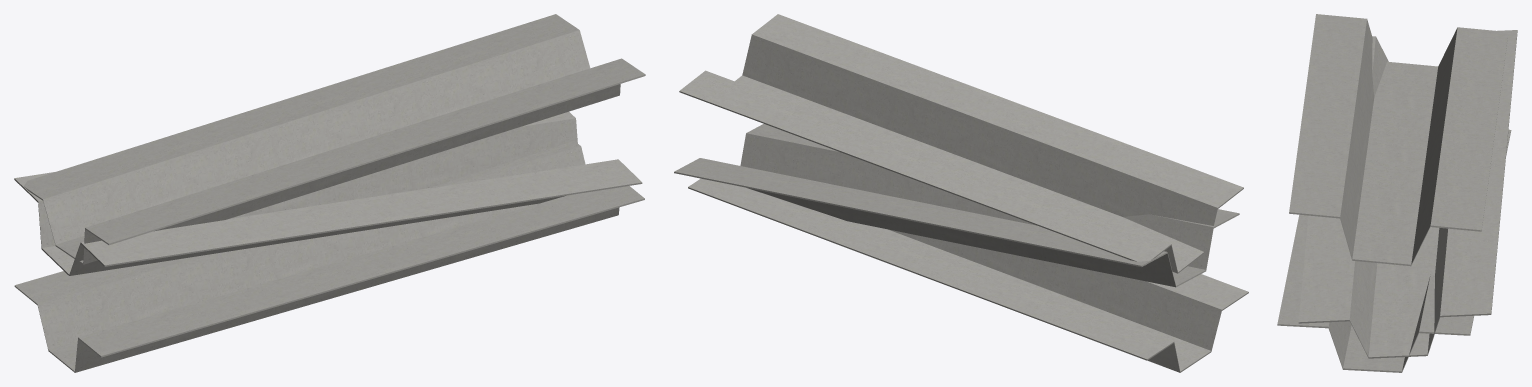
The model's file is COB-FIB-004_anim.glb.
The picture shows the model from 3 angles, left to right: view 1: azimuth 30°, elevation 25°; view 2: azimuth 150°, elevation 25°; view 3: azimuth 270°, elevation 25°; orthographic projection. The views are drawn at different scales.
Parts seen in each view (by area): view 1: COB-FIB-004_anim2, COB-FIB-004_anim0, COB-FIB-004_anim1; view 2: COB-FIB-004_anim2, COB-FIB-004_anim0, COB-FIB-004_anim1; view 3: COB-FIB-004_anim2, COB-FIB-004_anim1, COB-FIB-004_anim0.
Part boxes in pixels (<box>): COB-FIB-004_anim2: <box>24,14,645,264</box>; COB-FIB-004_anim0: <box>14,141,644,372</box>; COB-FIB-004_anim1: <box>14,111,642,275</box>; COB-FIB-004_anim2: <box>679,14,1243,273</box>; COB-FIB-004_anim0: <box>688,178,1248,372</box>; COB-FIB-004_anim1: <box>674,124,1239,287</box>; COB-FIB-004_anim2: <box>1289,14,1508,266</box>; COB-FIB-004_anim1: <box>1298,30,1517,358</box>; COB-FIB-004_anim0: <box>1277,129,1511,372</box>.
Size of the model in its own units: 3.08 by 1.13 by 1.22.
1 material, 1 textured.
